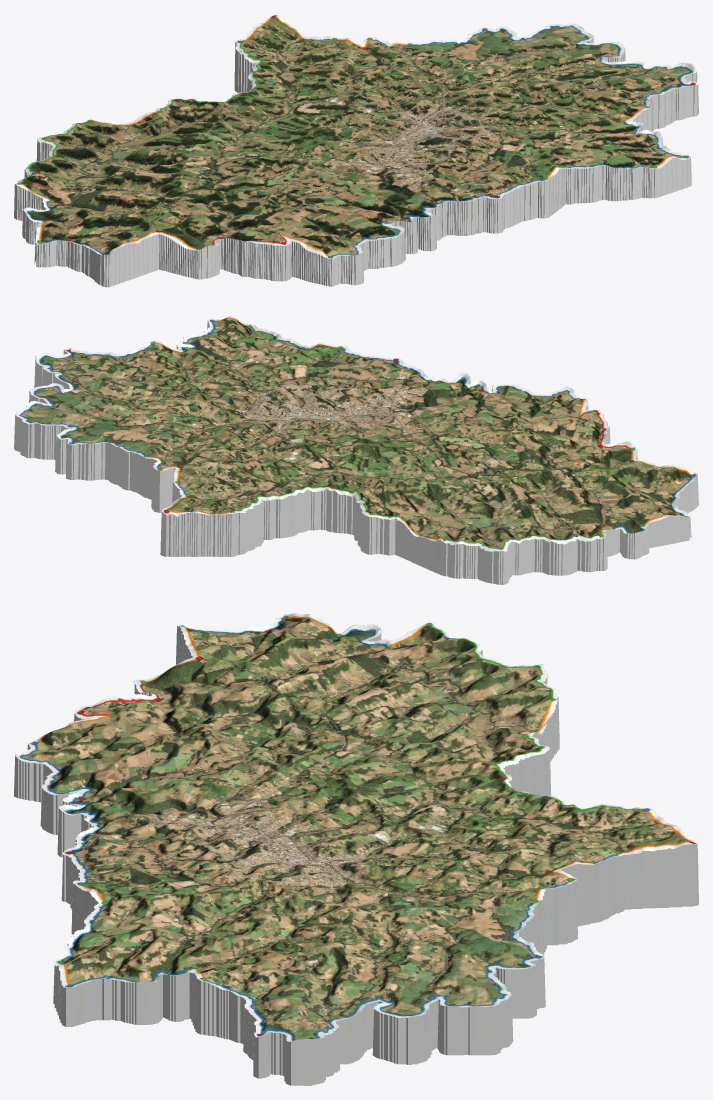
The picture shows the model from 3 angles, top to bottom: view 1: azimuth 30°, elevation 25°; view 2: azimuth 150°, elevation 25°; view 3: azimuth 270°, elevation 25°; orthographic projection. The views are drawn at different scales.
Bounding box in the file's own units: 1 × 0.0659 × 0.6583.
Materials: 1 (1 with a texture image).
